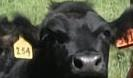muzzles: (68, 50, 105, 75)
